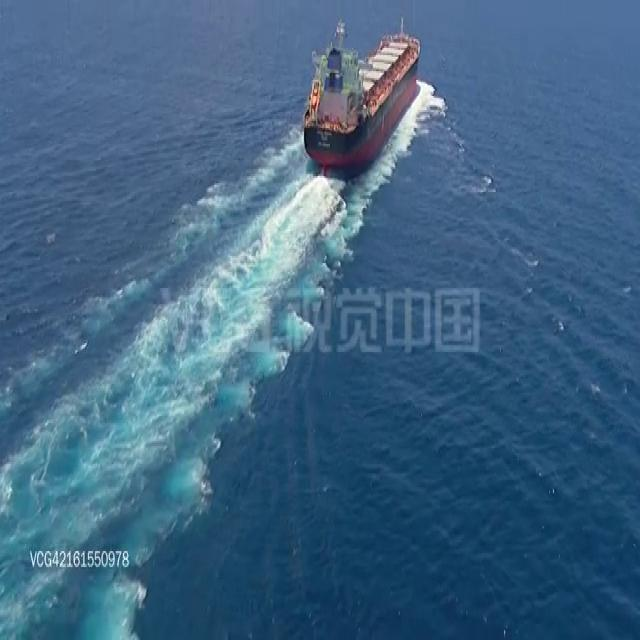cargoship: (298, 7, 422, 161)
